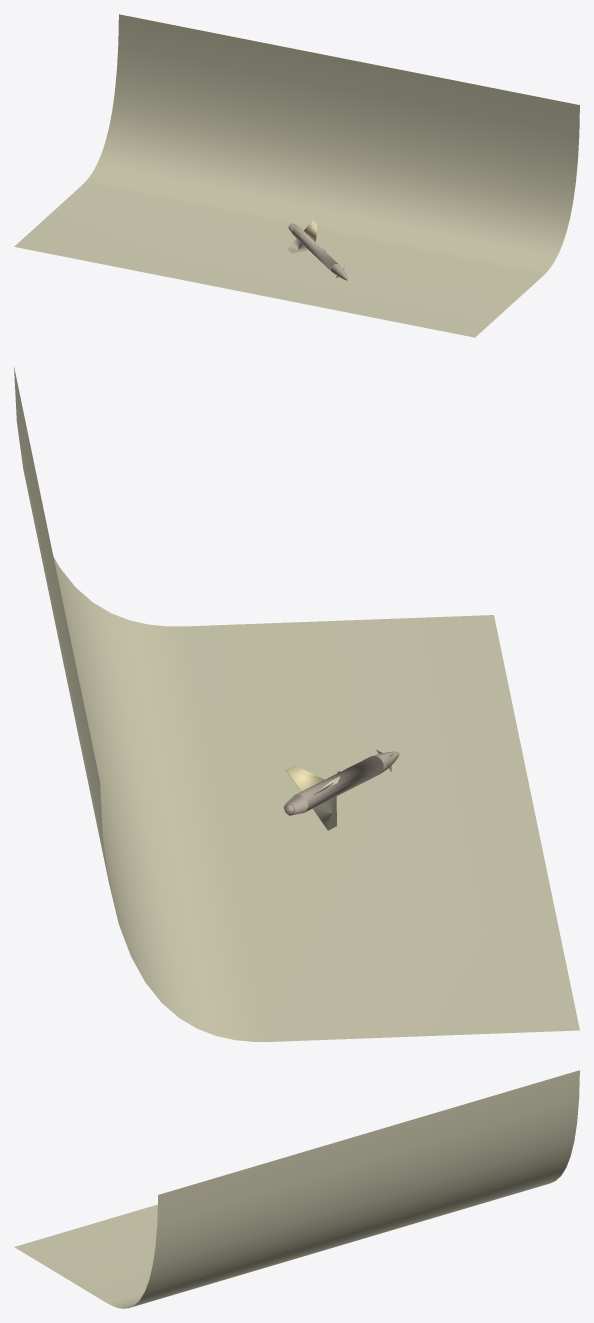
File: AGM-12.obj
3 renders of one model, top to bottom at view 1: azimuth 30°, elevation 25°; view 2: azimuth 150°, elevation 25°; view 3: azimuth 270°, elevation 25°, orthographic. The views are drawn at different scales.
Visible parts, largest first — view 1: background, AGM-12_Bullpup; view 2: background, AGM-12_Bullpup; view 3: background.
Boxes of the visible parts, box(x1,y1,x2,y2) form: background: box(14, 14, 579, 337); AGM-12_Bullpup: box(288, 220, 347, 280); background: box(14, 367, 579, 1041); AGM-12_Bullpup: box(282, 749, 399, 830); background: box(14, 1070, 579, 1308).
Bounding box in the file's own units: 1898 × 582 × 2143.
